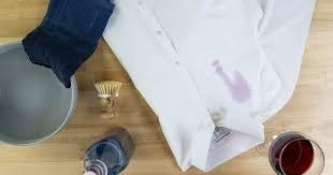wine: (226, 68, 256, 107), (207, 58, 226, 84)
